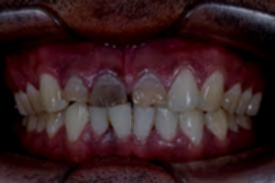Tooth Discoloration: (84, 73, 132, 107)
